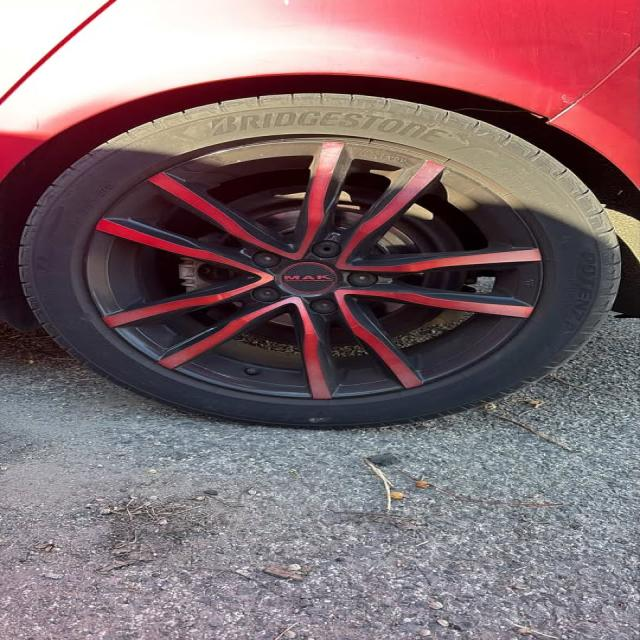jante: (82, 138, 546, 403)
parafuso: (305, 239, 346, 262), (342, 270, 382, 291), (248, 250, 285, 271), (250, 285, 282, 304), (308, 298, 338, 316)
roda: (15, 93, 622, 430)
